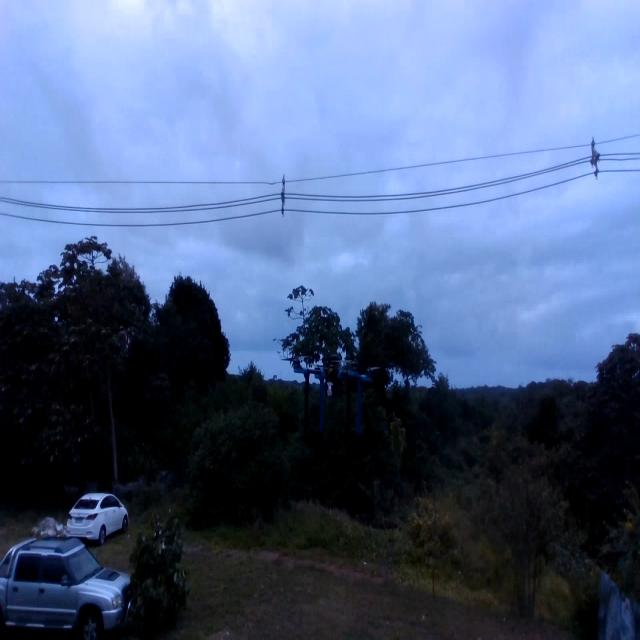-uav-: (279, 341, 386, 447)
